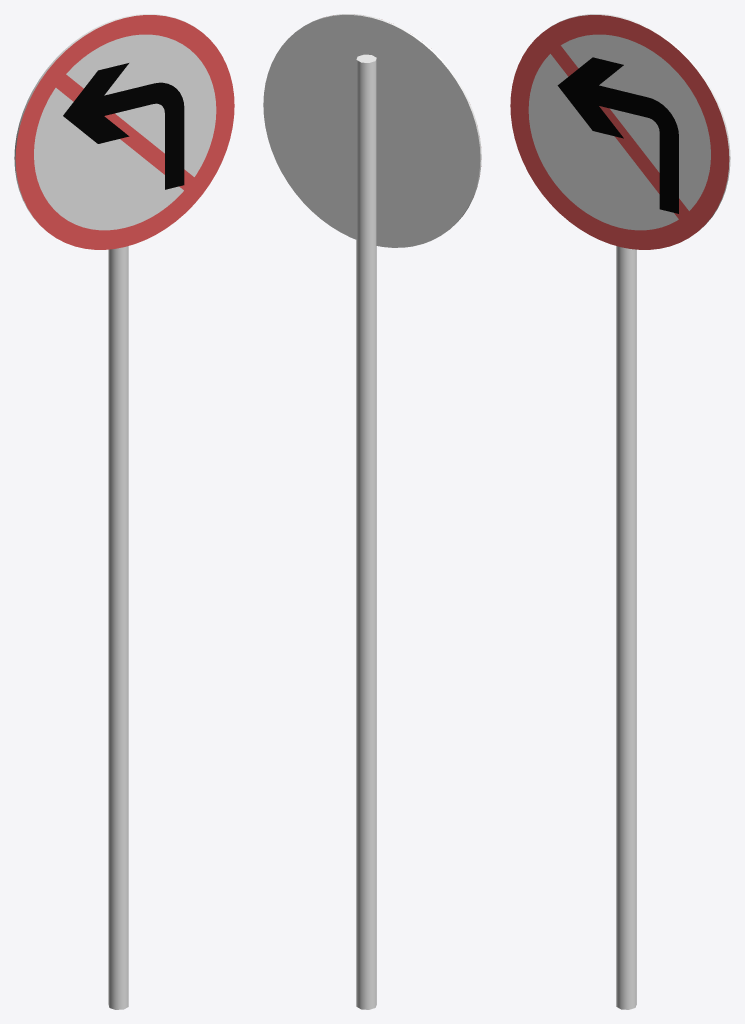
3 renders of one model, left to right at view 1: azimuth 30°, elevation 25°; view 2: azimuth 150°, elevation 25°; view 3: azimuth 330°, elevation 25°, orthographic.
Parts seen in each view (by area): view 1: P22; view 2: P22; view 3: P22.
Boxes of the visible parts, x1=… form: P22: x1=14, y1=14, x2=234, y2=1009; P22: x1=263, y1=14, x2=481, y2=1009; P22: x1=510, y1=14, x2=730, y2=1009.
Size of the model in its own units: 3.93 by 17.03 by 0.3683.
